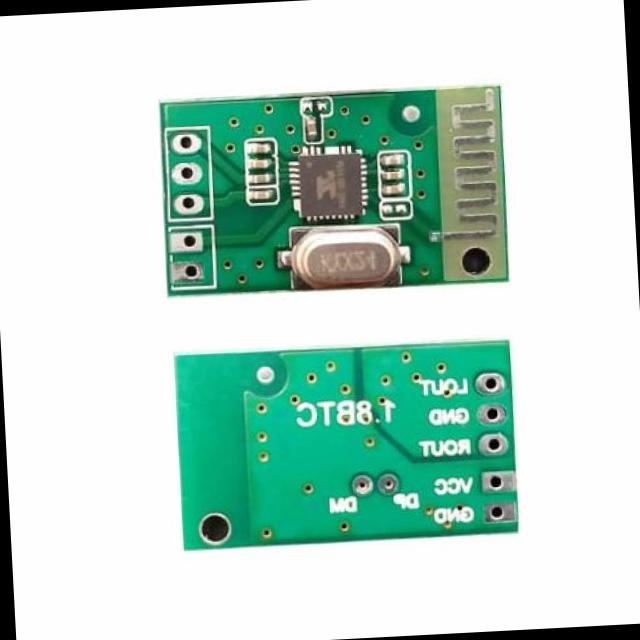IC: (286, 143, 371, 221)
capacitor: (246, 188, 274, 202), (248, 156, 270, 170), (248, 172, 270, 185), (246, 142, 269, 154), (382, 153, 403, 166), (306, 115, 318, 136), (384, 182, 402, 195), (381, 170, 404, 179)
